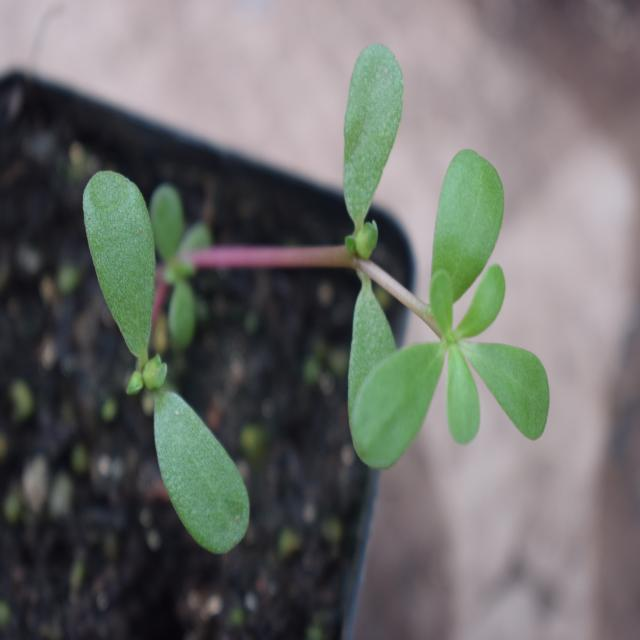purslane: (78, 43, 553, 558)
